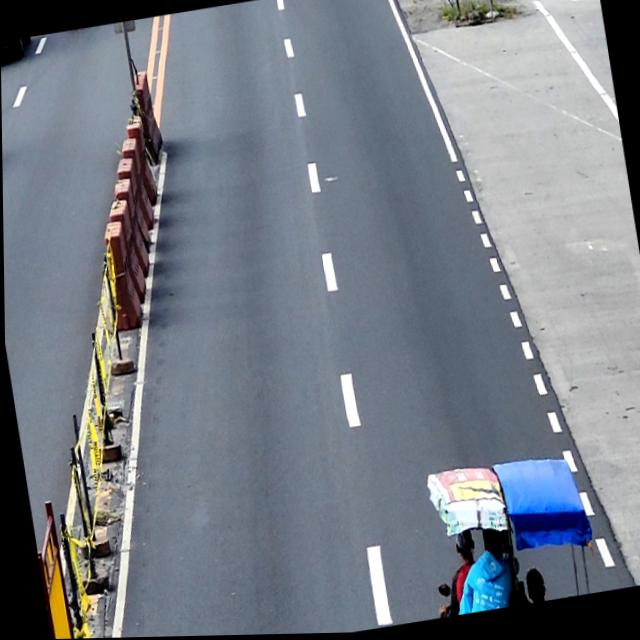Tricycle: (422, 449, 599, 618)
